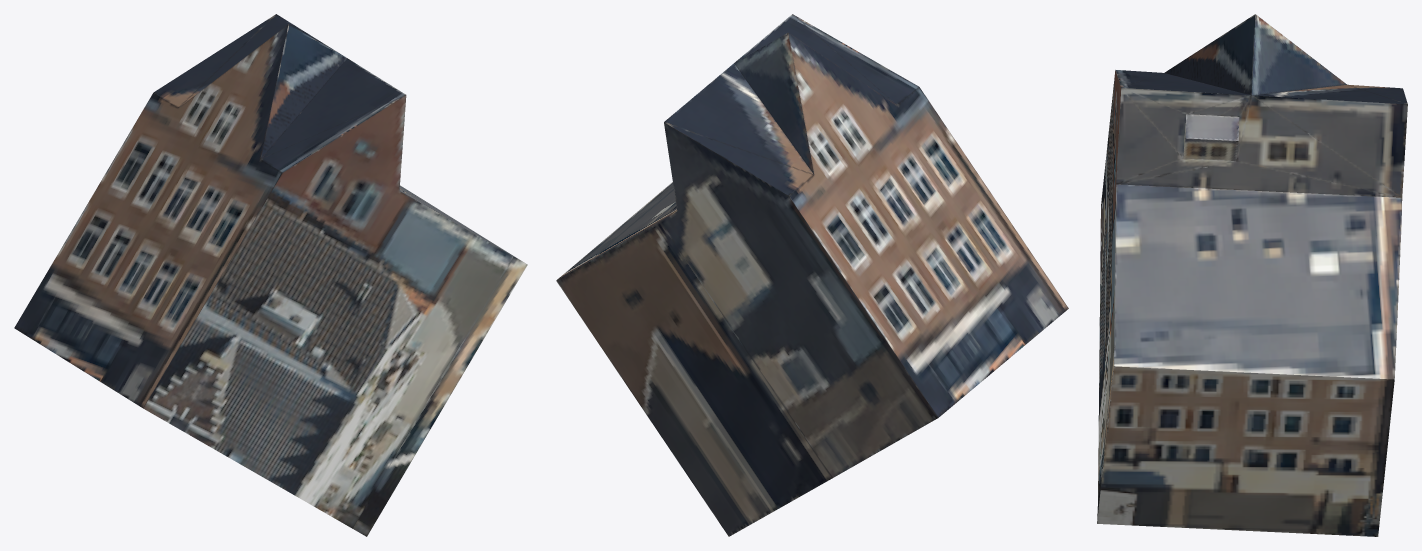
3 views of the same model, side by side, from view 1: azimuth 30°, elevation 25°; view 2: azimuth 150°, elevation 25°; view 3: azimuth 270°, elevation 25° (orthographic). The views are drawn at different scales.
Parts seen in each view (by area): view 1: BAG_0599100000671723 (×3); view 2: BAG_0599100000671723 (×3); view 3: BAG_0599100000671723 (×5).
Part boxes in pixels (x1,y1,x2,y2): BAG_0599100000671723 (×3): [14, 14, 527, 536]; BAG_0599100000671723 (×3): [556, 14, 1068, 536]; BAG_0599100000671723 (×5): [1097, 14, 1407, 536].
Bounding box in the file's own units: 20.84 × 24.19 × 13.09.
Materials: 1 (1 with a texture image).
